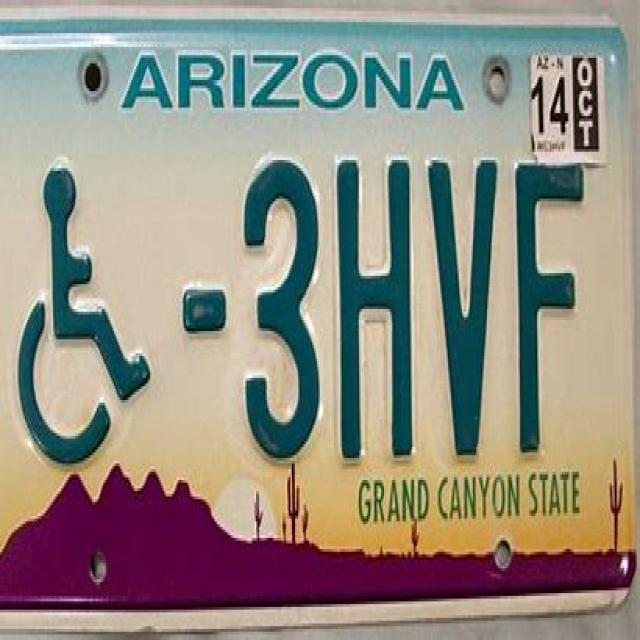car-handicap-placard: (14, 159, 154, 468)
